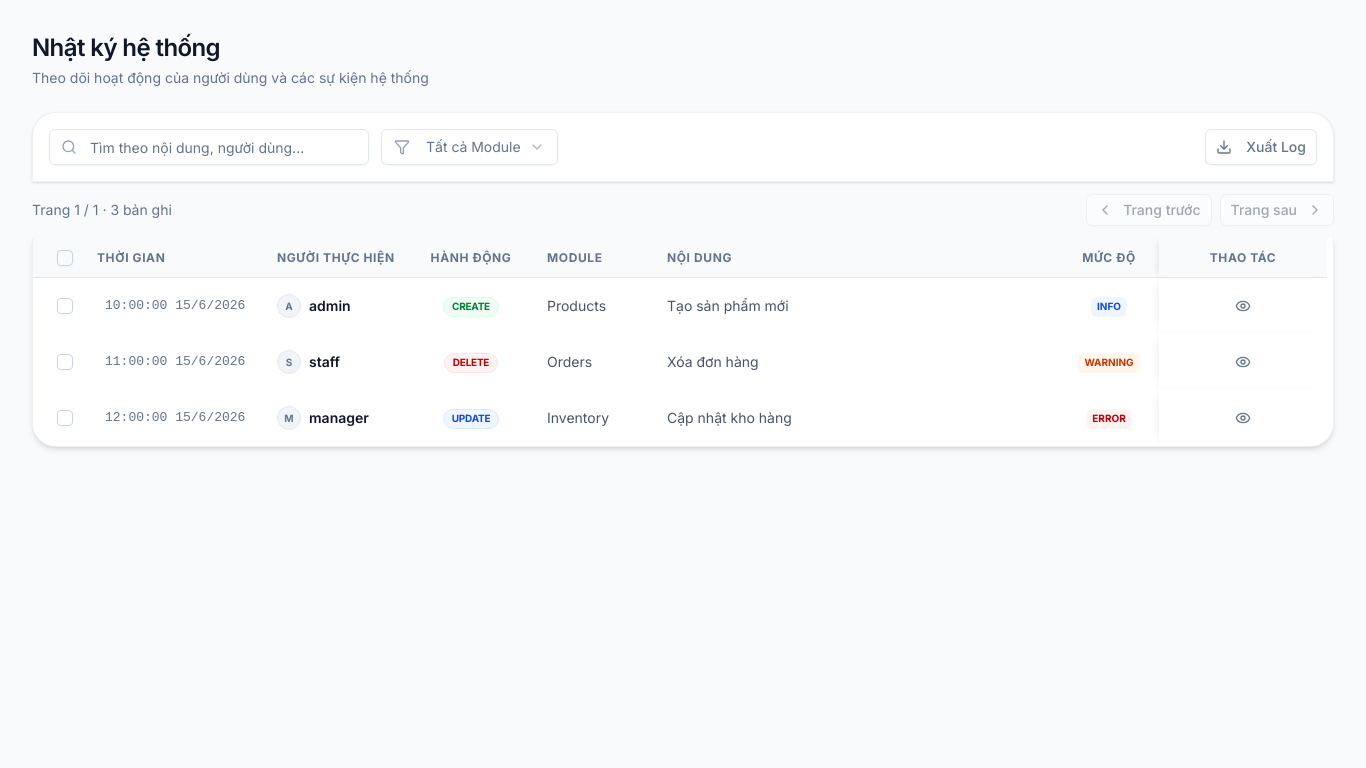
Test: LogsPage redesign › clicking view button opens detail dialog with log description
What coordinates should you click on to do the following:
click the button titled "Chi tiết" in the row of "10:00:00 15/6/2026"
I would click on:
 (1243, 306)
Its box is [1227,290,1259,322].
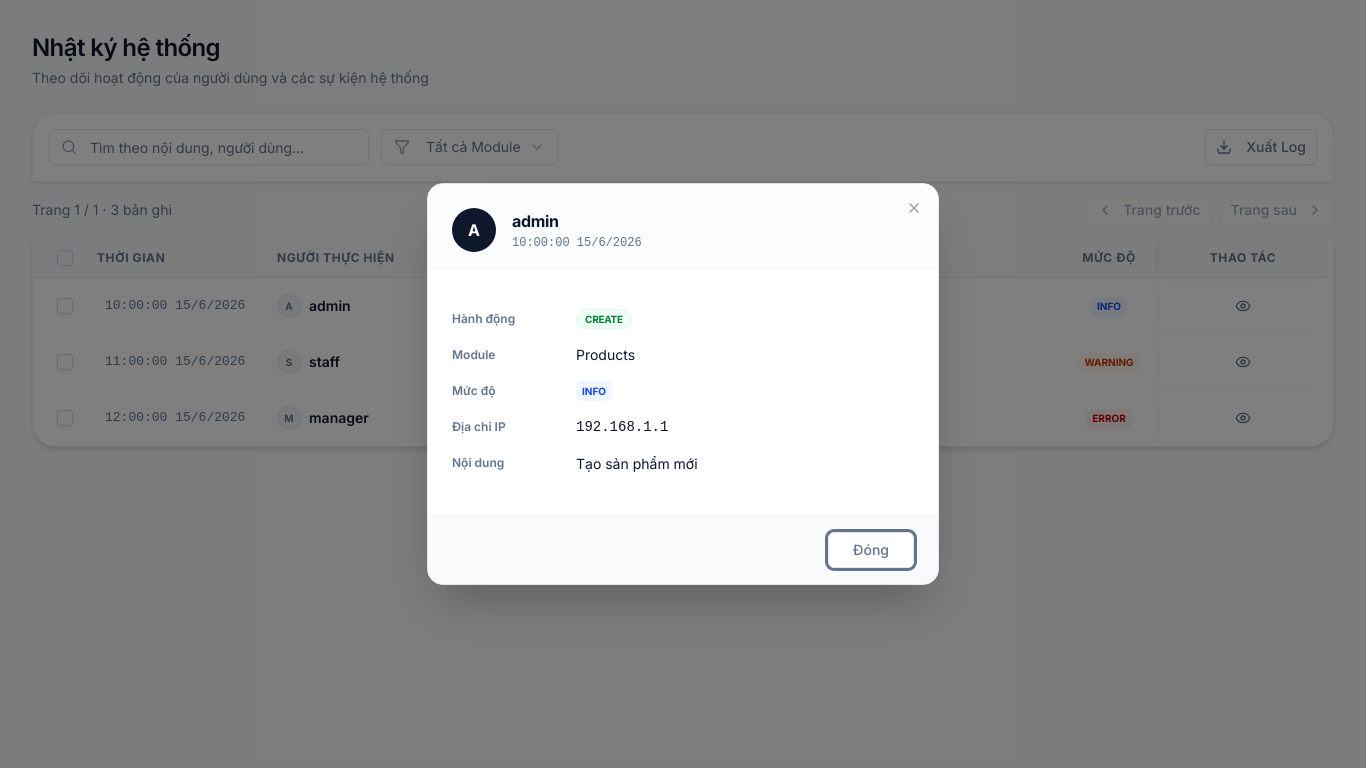
Expected: the dialog is shown, [427,183,939,585]
Expected: the text "Tạo sản phẩm mới" is shown, [576,453,698,475]
